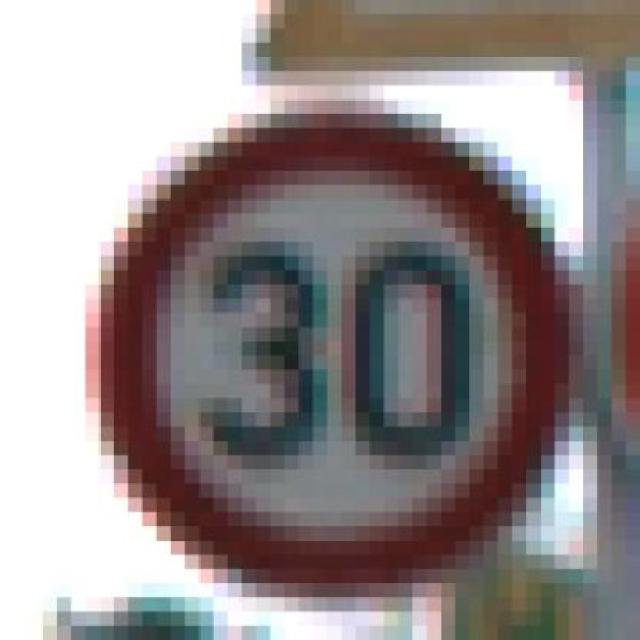Speed Limit 30 KMPh: (43, 99, 612, 598)
